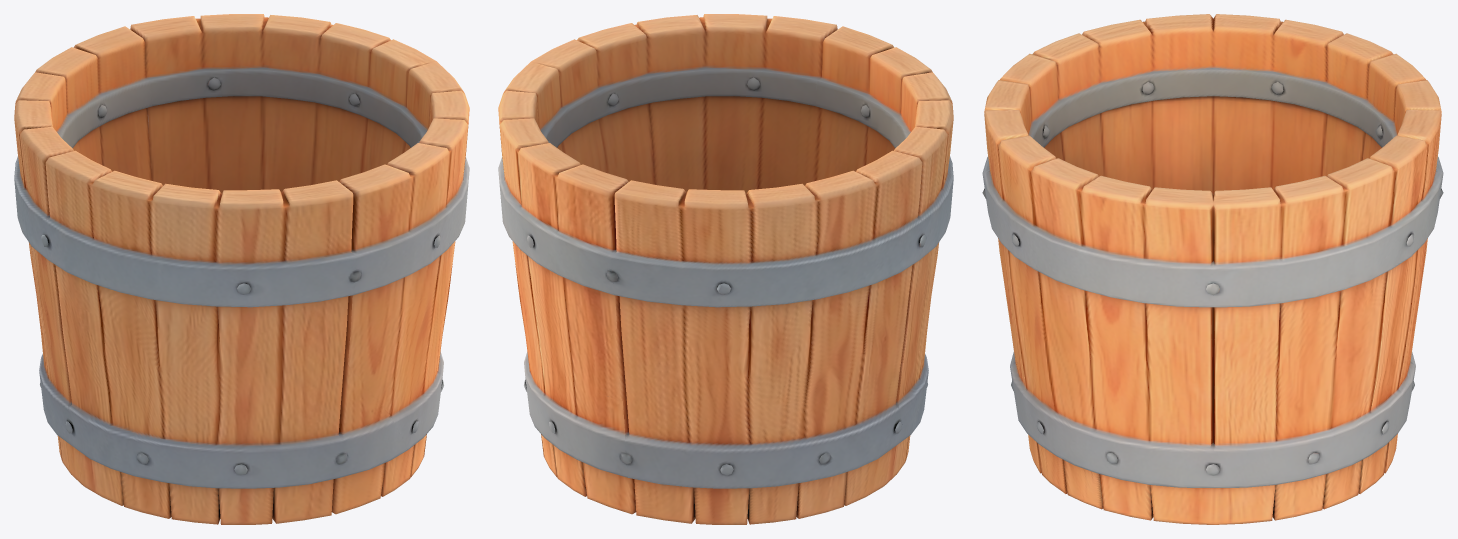
Rendered from base_basic_shaded.fbx.
3 renders of one model, left to right at view 1: azimuth 30°, elevation 25°; view 2: azimuth 150°, elevation 25°; view 3: azimuth 270°, elevation 25°, orthographic.
Parts seen in each view (by area): view 1: model; view 2: model; view 3: model.
Part boxes in pixels (x1=…): model: x1=14, y1=14, x2=469, y2=524; model: x1=498, y1=14, x2=953, y2=524; model: x1=982, y1=14, x2=1443, y2=524.
Size of the model in its own units: 190 by 154 by 190.
